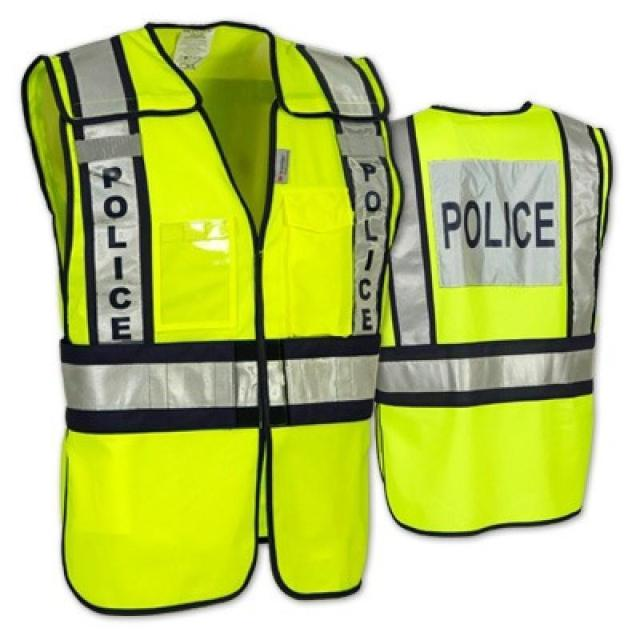Vest: (20, 18, 404, 620), (374, 94, 613, 539)
